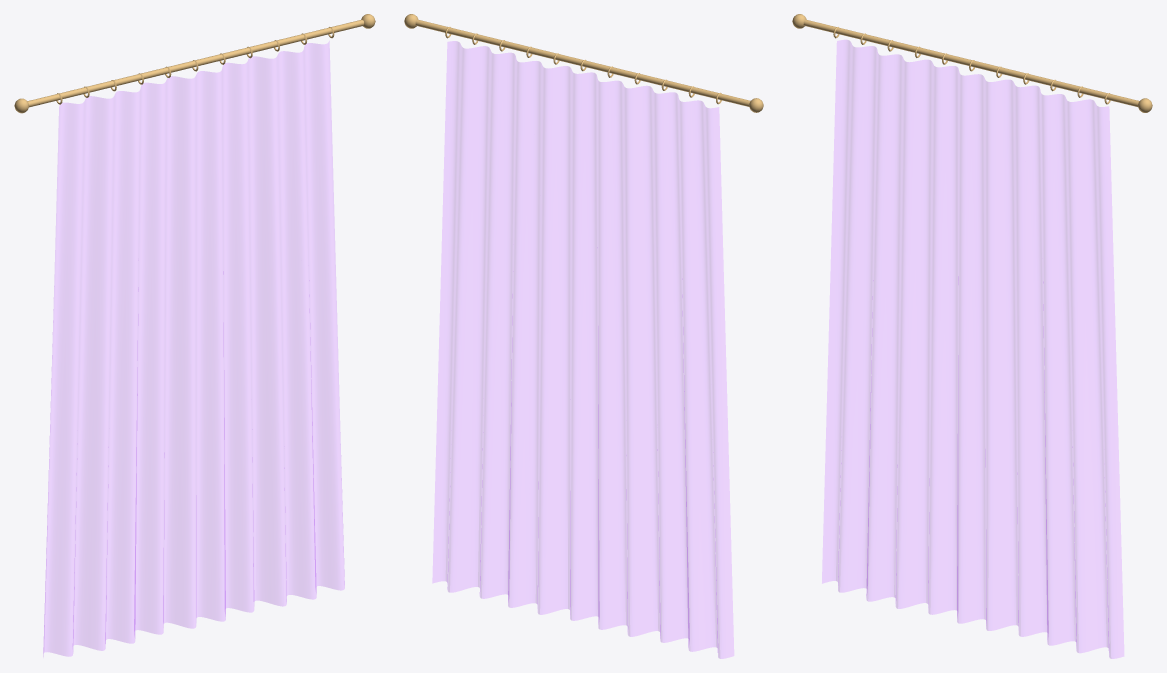
Rendered from KIT_Cortina_Reta_Violeta.glb.
The picture shows the model from 3 angles, left to right: view 1: azimuth 30°, elevation 25°; view 2: azimuth 150°, elevation 25°; view 3: azimuth 330°, elevation 25°; orthographic projection.
Visible parts, largest first — view 1: KIT_Cortina_Reta_Violeta; view 2: KIT_Cortina_Reta_Violeta; view 3: KIT_Cortina_Reta_Violeta.
Boxes of the visible parts, box(x1,y1,x2,y2) form: KIT_Cortina_Reta_Violeta: box(14, 14, 375, 656); KIT_Cortina_Reta_Violeta: box(404, 14, 763, 658); KIT_Cortina_Reta_Violeta: box(792, 14, 1152, 658).
Size of the model in its own units: 1.78 by 2.68 by 0.1153.
